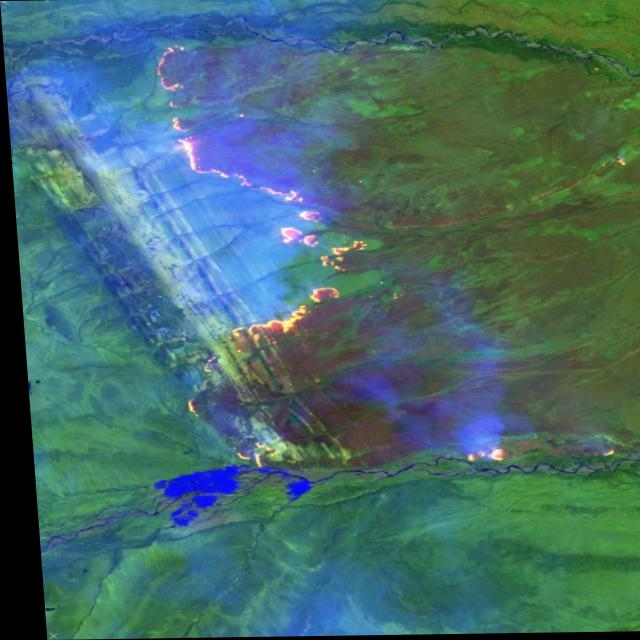fire: (133, 33, 402, 473), (447, 434, 519, 477)
